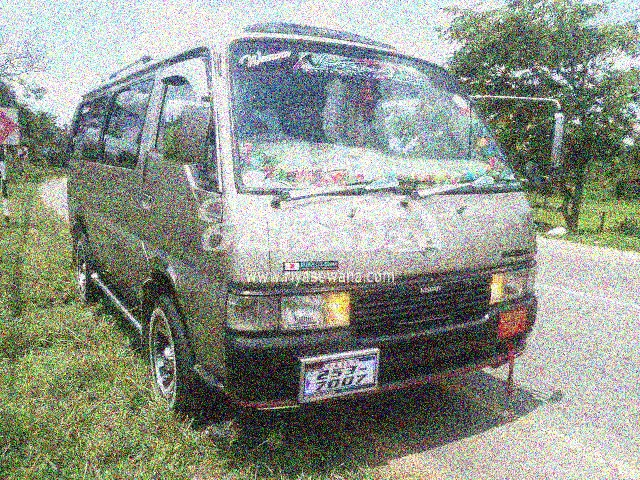van: (68, 20, 567, 411)
